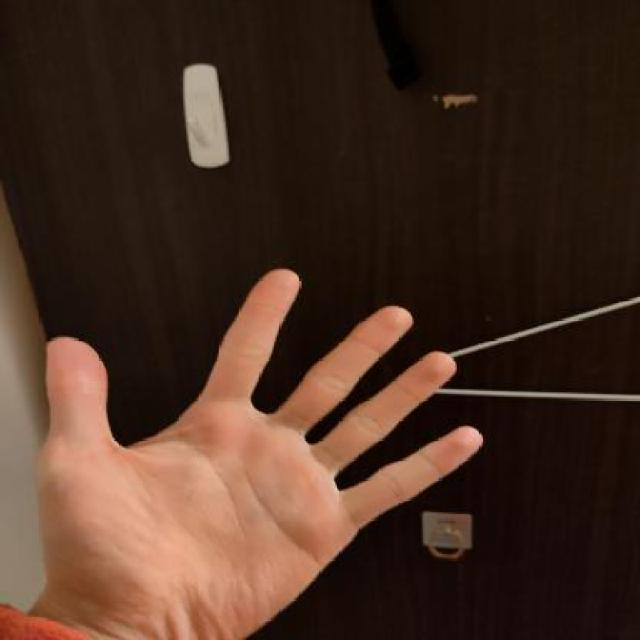no_glove: (23, 263, 486, 639)
